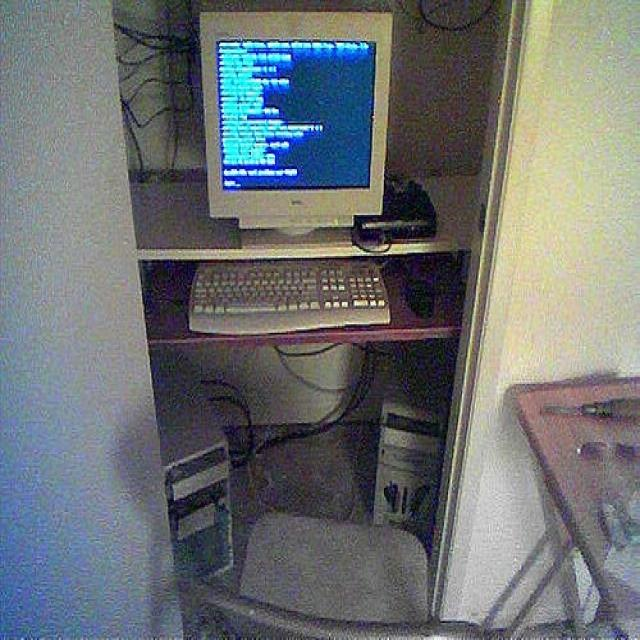tvmonitor: (200, 9, 393, 248)
